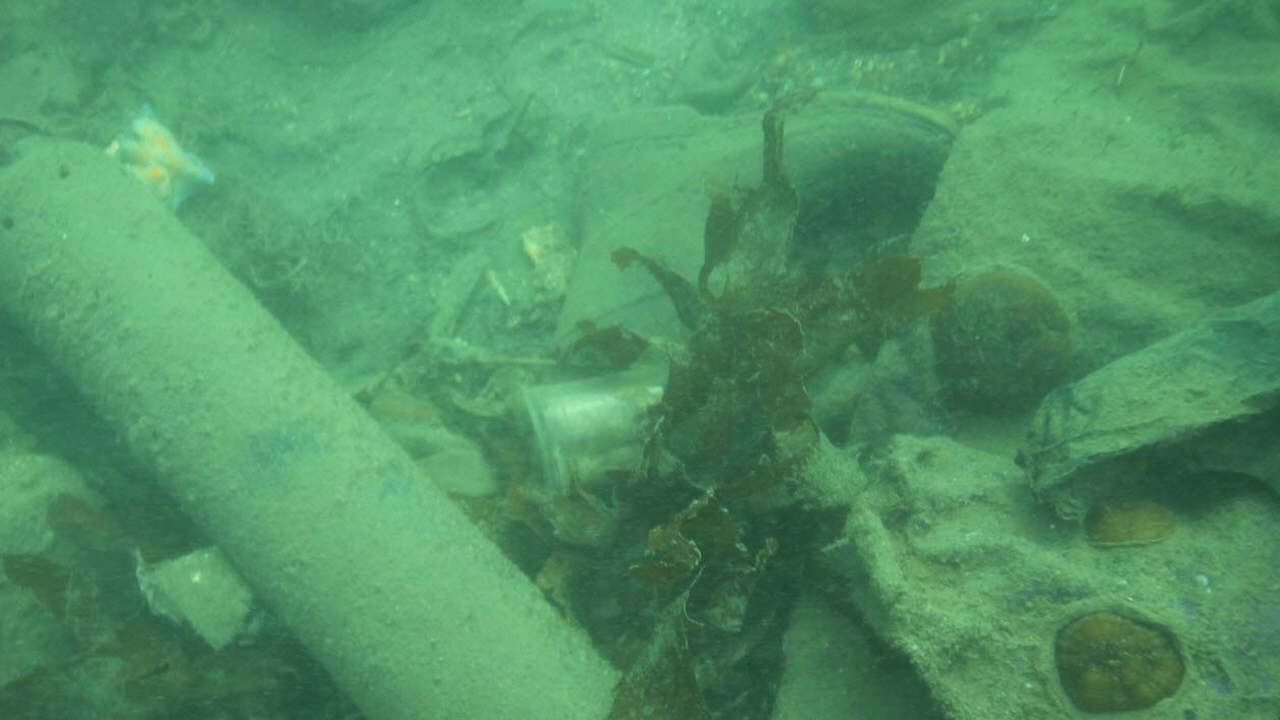eel fish trap: (0, 136, 623, 720)
